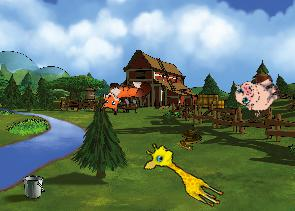fox: (99, 80, 151, 115)
giraffe: (138, 139, 231, 210)
pig: (230, 67, 285, 120)
